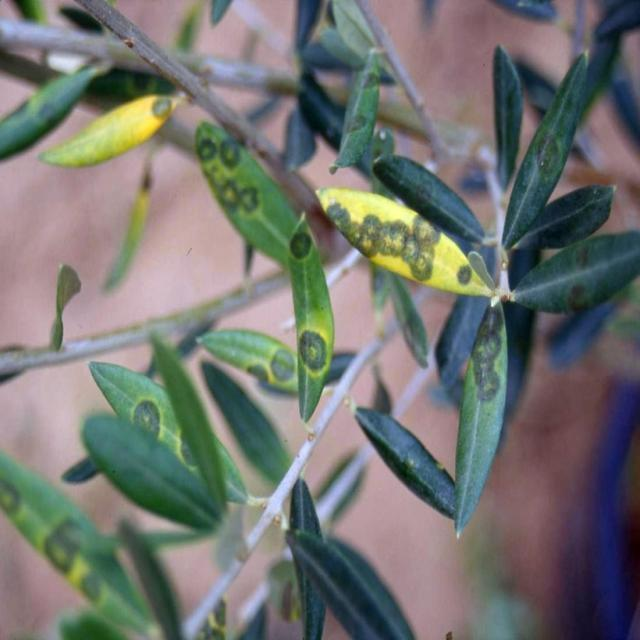OlivePeacockSpot: (0, 452, 159, 635), (316, 187, 498, 304), (503, 51, 588, 242), (195, 120, 298, 266), (453, 302, 508, 532), (89, 361, 200, 473), (39, 93, 186, 167), (514, 232, 640, 313), (354, 408, 455, 500), (288, 218, 334, 418), (198, 329, 297, 394), (331, 48, 382, 174)
